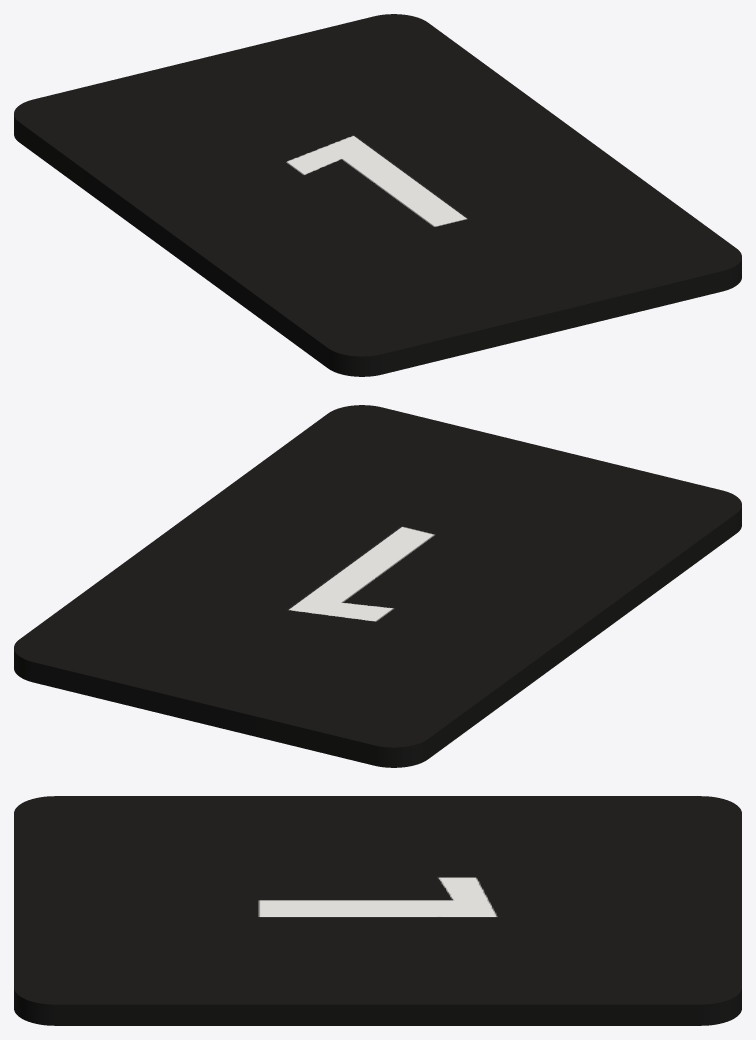
Rendered from black_1.glb.
3 renders of one model, top to bottom at view 1: azimuth 30°, elevation 25°; view 2: azimuth 150°, elevation 25°; view 3: azimuth 270°, elevation 25°, orthographic. The views are drawn at different scales.
Parts seen in each view (by area): view 1: black_1; view 2: black_1; view 3: black_1.
Part boxes in pixels (bbox=[...]): black_1: bbox=[14, 14, 741, 376]; black_1: bbox=[14, 405, 741, 767]; black_1: bbox=[14, 796, 741, 1025].
Size of the model in its own units: 0.042 by 0.002 by 0.062.
2 materials, 1 textured.
